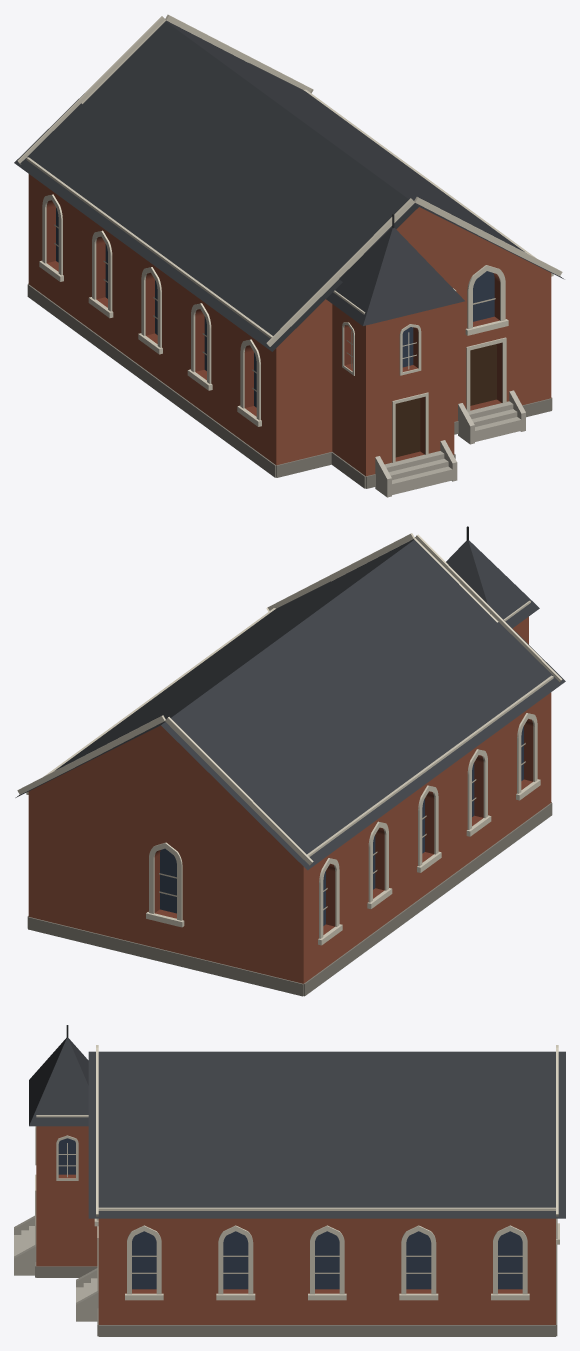
Rendered from ch-ame-zion-spring-1913.glb.
The picture shows the model from 3 angles, top to bottom: view 1: azimuth 30°, elevation 25°; view 2: azimuth 150°, elevation 25°; view 3: azimuth 270°, elevation 25°; orthographic projection. The views are drawn at different scales.
Visible parts, largest first — view 1: ch_roof, ch_brick, ch_trim, ch_brick2, ch_base, ch_conc, ch_door, ch_stain; view 2: ch_roof, ch_brick, ch_trim, ch_base, ch_brick2, ch_stain; view 3: ch_roof, ch_brick, ch_trim, ch_stain, ch_base, ch_conc, ch_brick2, ch_trc.
Part boxes in pixels (x1,y1,x2,y2): ch_roof: [14, 20, 564, 351]; ch_brick: [28, 174, 551, 476]; ch_trim: [17, 14, 562, 462]; ch_brick2: [46, 200, 502, 461]; ch_base: [27, 283, 552, 488]; ch_conc: [375, 390, 525, 497]; ch_door: [395, 344, 496, 457]; ch_stain: [56, 208, 494, 407]; ch_roof: [15, 539, 565, 870]; ch_brick: [28, 616, 551, 983]; ch_trim: [17, 533, 562, 945]; ch_base: [27, 802, 552, 996]; ch_brick2: [154, 718, 533, 934]; ch_stain: [160, 726, 523, 925]; ch_roof: [29, 1038, 565, 1218]; ch_brick: [36, 1126, 555, 1324]; ch_trim: [35, 1045, 559, 1300]; ch_stain: [58, 1138, 522, 1289]; ch_base: [35, 1244, 557, 1336]; ch_conc: [14, 1215, 98, 1321]; ch_brick2: [58, 1174, 522, 1293]; ch_trc: [132, 1255, 522, 1273].
Size of the model in its own units: 12.66 by 10.4 by 22.2.
